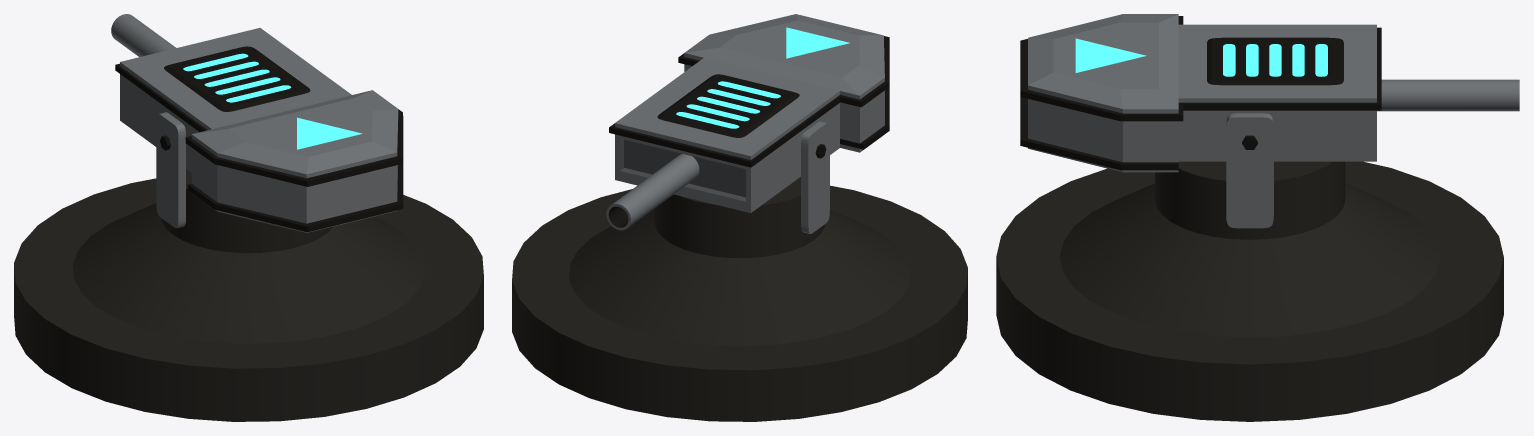
File: gunner_L1.fbx
3 renders of one model, left to right at view 1: azimuth 30°, elevation 25°; view 2: azimuth 150°, elevation 25°; view 3: azimuth 270°, elevation 25°, orthographic. The views are drawn at different scales.
Parts seen in each view (by area): view 1: Circle, Circle.001, vents, Plane, Plane.001, Circle.007, Circle.006; view 2: Circle, Circle.001, vents, Circle.007, Plane, Plane.001, Circle.006; view 3: Circle, Circle.001, Plane, vents, Circle.007, Plane.001, Circle.006.
Boxes of the visible parts, x1,y1,x2,y2 form: Circle: [14, 169, 483, 421]; Circle.001: [115, 28, 403, 232]; vents: [164, 46, 310, 111]; Plane: [156, 112, 185, 228]; Plane.001: [183, 53, 291, 102]; Circle.007: [111, 14, 175, 56]; Circle.006: [297, 117, 362, 149]; Circle: [512, 177, 967, 421]; Circle.001: [609, 14, 889, 212]; vents: [657, 74, 799, 137]; Circle.007: [606, 154, 699, 230]; Plane: [801, 121, 829, 233]; Plane.001: [676, 81, 780, 128]; Circle.006: [786, 27, 849, 58]; Circle: [996, 161, 1503, 421]; Circle.001: [1020, 14, 1381, 172]; Plane: [1226, 113, 1273, 228]; vents: [1207, 37, 1343, 85]; Circle.007: [1377, 79, 1519, 111]; Plane.001: [1223, 44, 1327, 76]; Circle.006: [1075, 38, 1146, 72].
Size of the model in its own units: 160 by 90.01 by 165.
